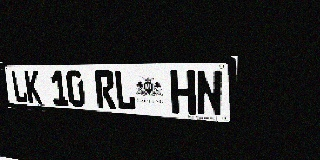0: (65, 70, 86, 107)
1: (49, 71, 69, 106)
H: (170, 70, 196, 115)
K: (24, 71, 42, 104)
L: (114, 70, 136, 111), (10, 71, 28, 103)
N: (196, 70, 223, 117)
R: (94, 70, 116, 109)
